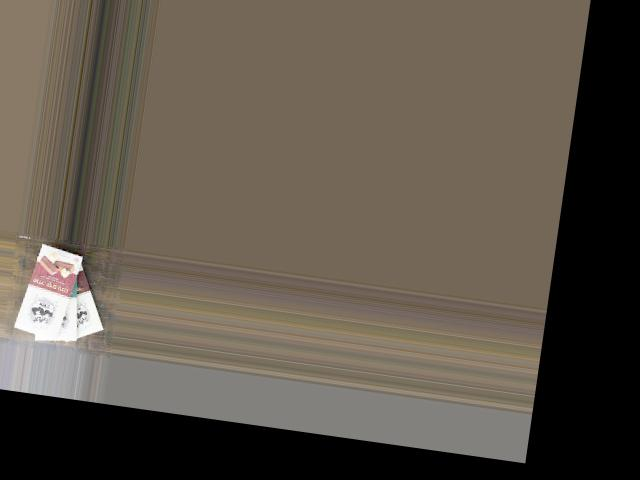chocolate: (41, 246, 114, 349)
